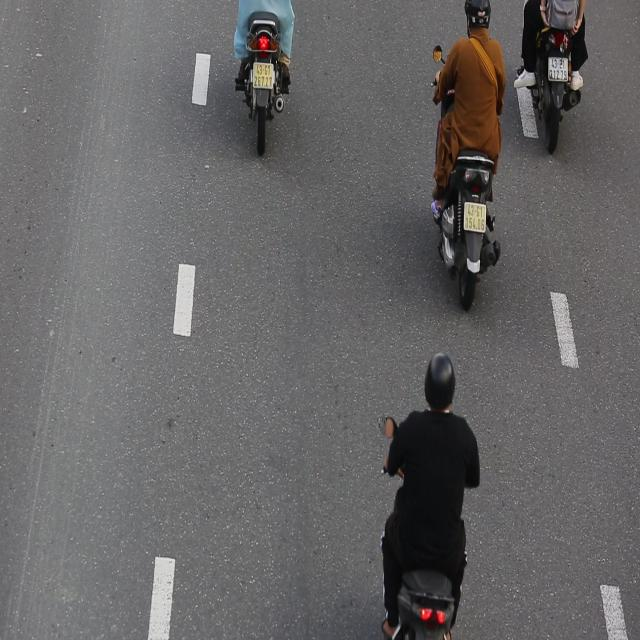motorbike: (427, 0, 512, 318)
